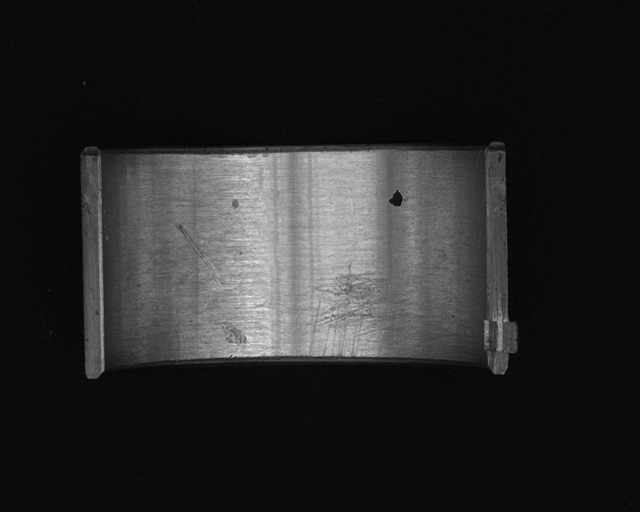blot: (388, 189, 404, 207)
bruise: (219, 321, 248, 346), (231, 197, 240, 210)
nick: (177, 224, 223, 287)
scratch: (308, 262, 449, 358)
